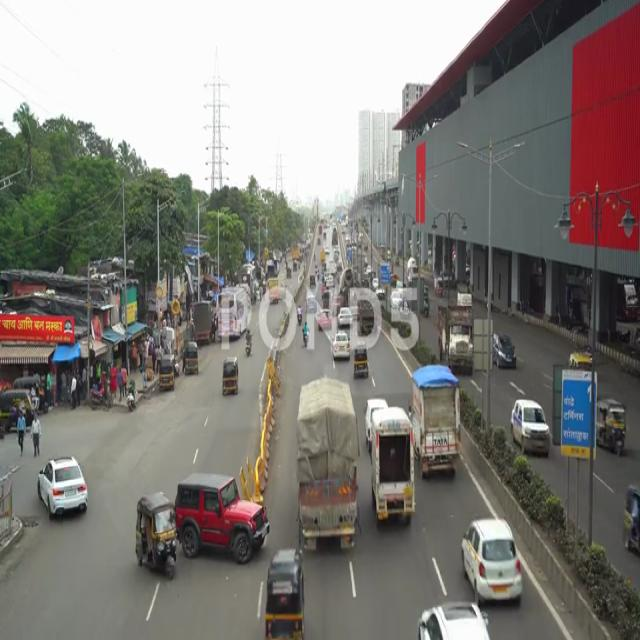car: (175, 464, 271, 564), (459, 517, 523, 599), (39, 461, 90, 517), (514, 397, 552, 455), (494, 331, 518, 375)
person: (30, 411, 43, 459), (16, 409, 28, 457)
rikshaw: (132, 485, 177, 584), (266, 554, 306, 640), (598, 396, 630, 461)
truck: (293, 364, 369, 568), (415, 372, 464, 483), (371, 413, 416, 533), (438, 301, 478, 368)
